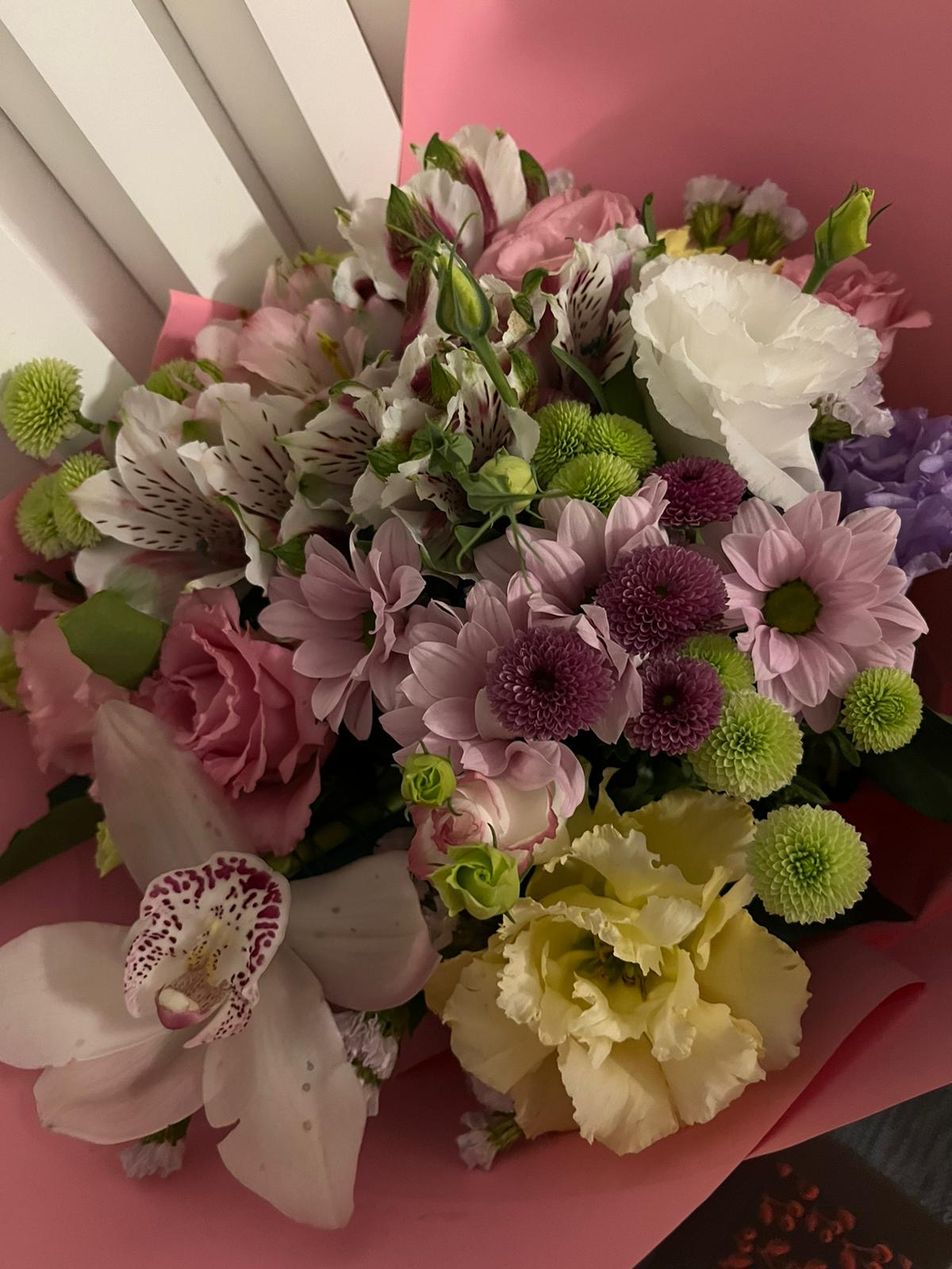rose: (136, 586, 343, 869), (403, 749, 576, 885)
